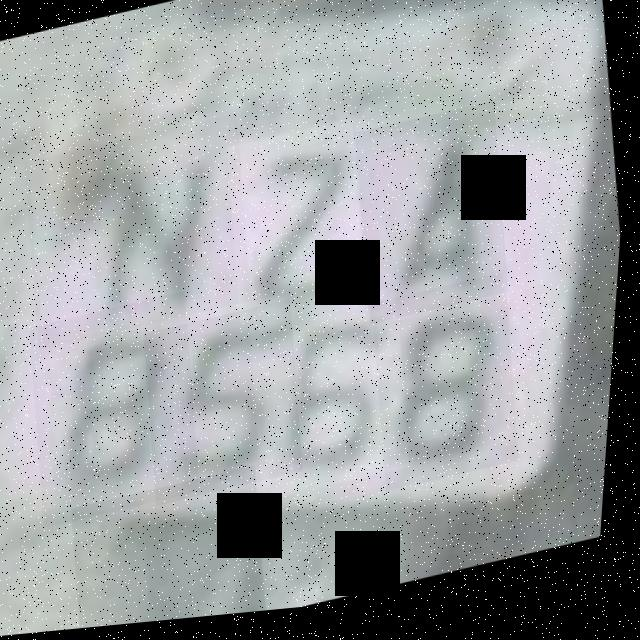5: (139, 304, 319, 511)
6: (245, 293, 426, 510)
7: (71, 470, 283, 632)
8: (23, 293, 218, 532), (367, 281, 536, 502)
A: (348, 109, 525, 334)
N: (17, 116, 265, 354)
Z: (220, 123, 379, 330)
